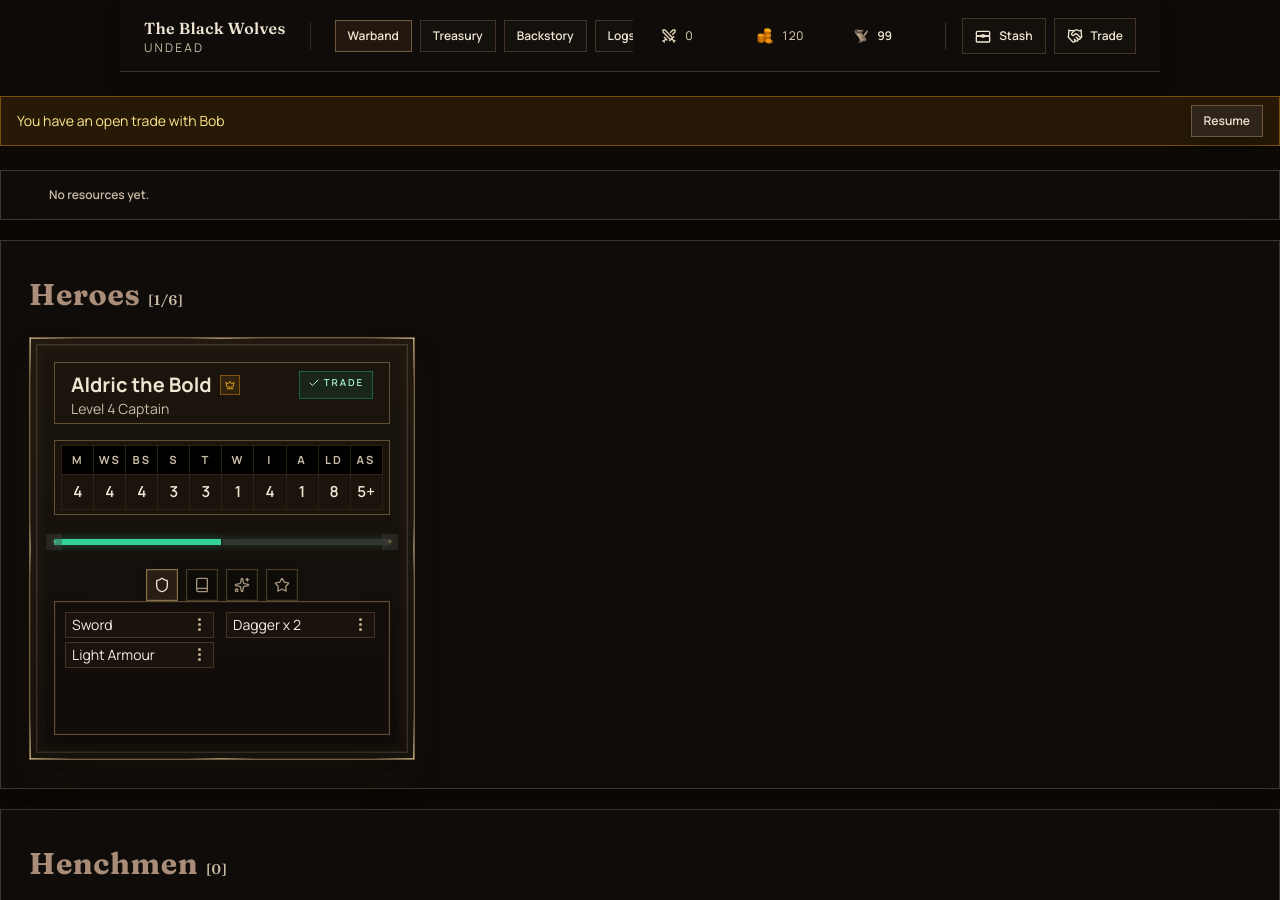
it: Warband page: resuming an open trade › makes way for the trade at once when Resume is pressed, while it is being read
Click the button "Resume": click(1227, 121) [1190,105,1263,137]
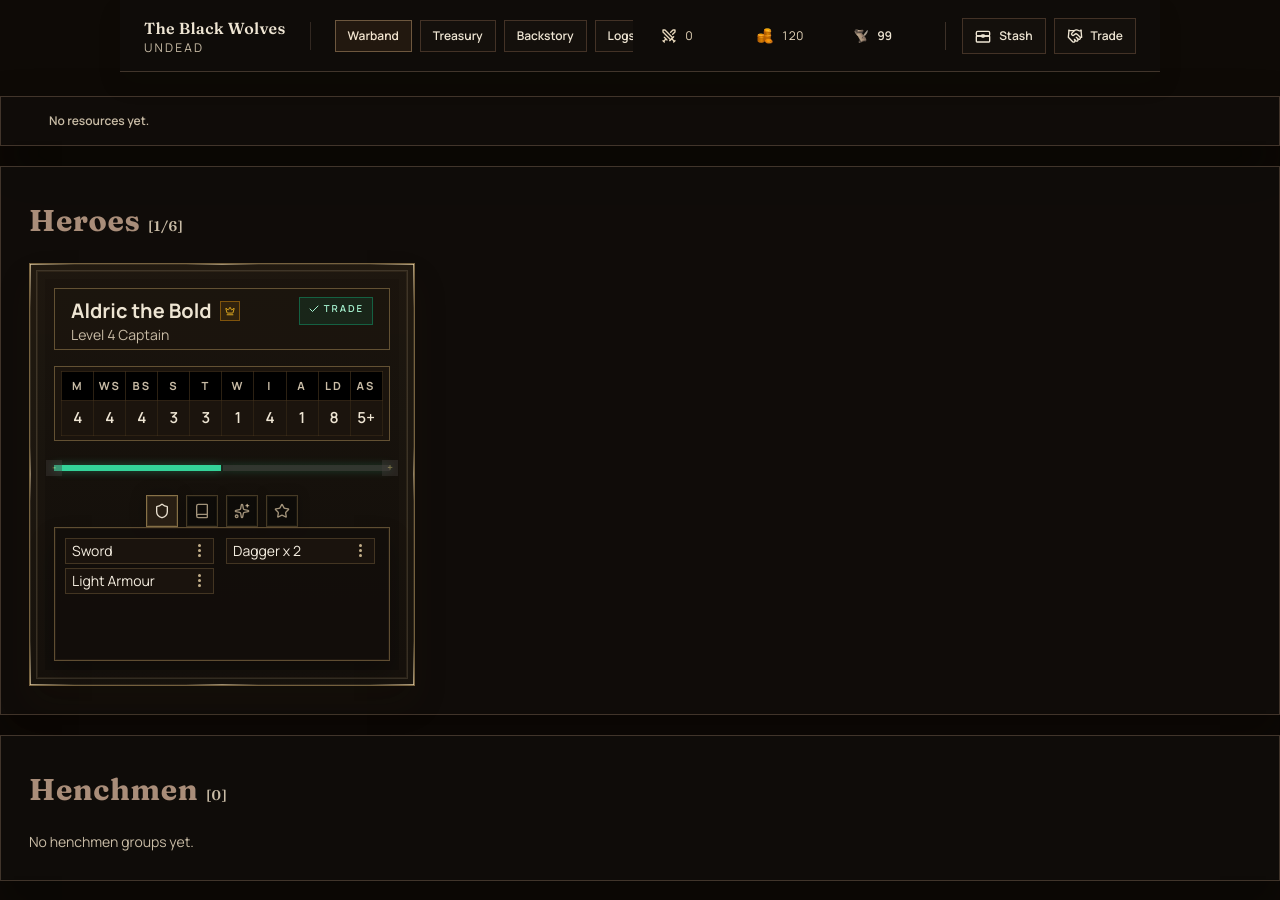
Result: the text "open trade" is gone
